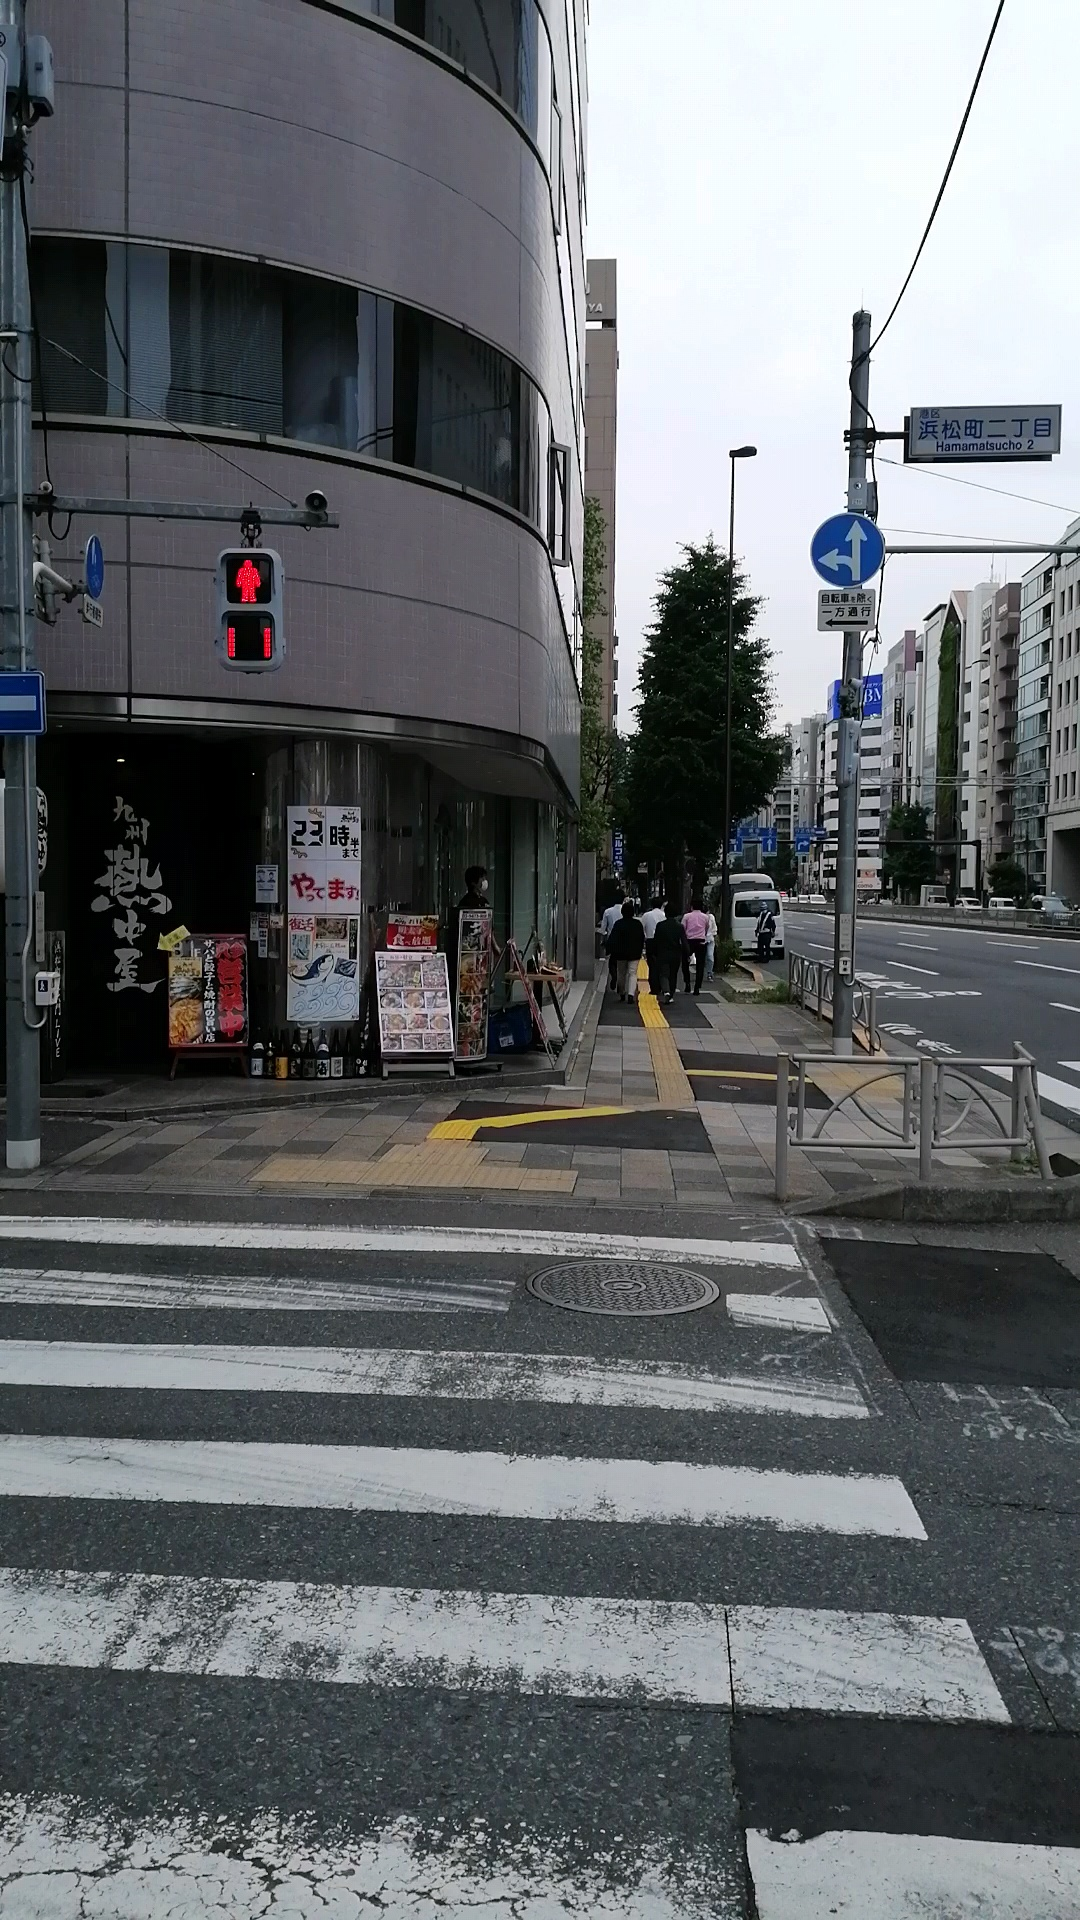red: (218, 547, 281, 671)
